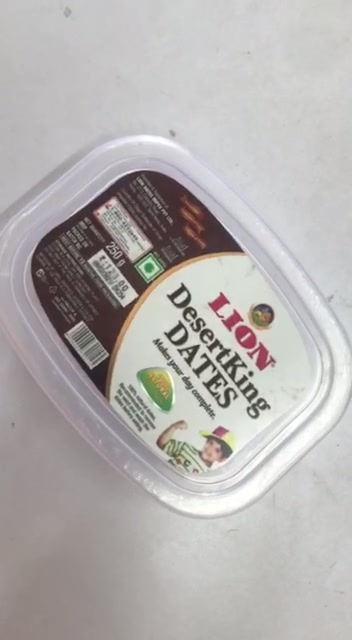Lion dates: (1, 137, 352, 521)
